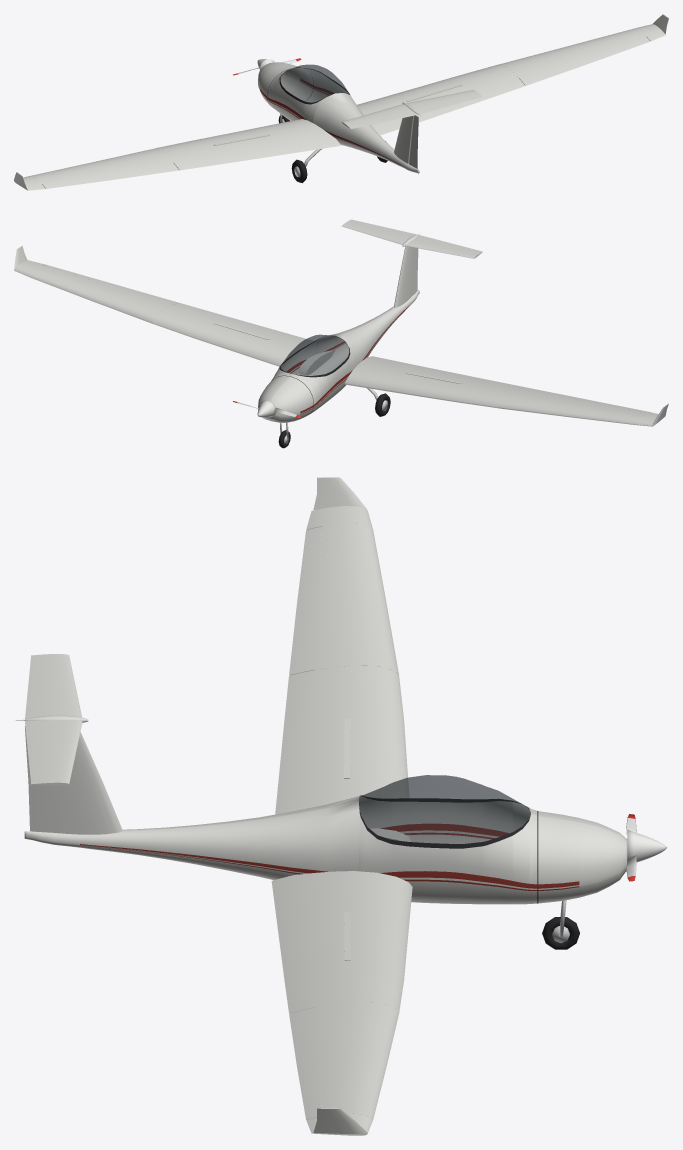
Rendered from super_dimona_lod1.glb.
The picture shows the model from 3 angles, top to bottom: view 1: azimuth 30°, elevation 25°; view 2: azimuth 150°, elevation 25°; view 3: azimuth 270°, elevation 25°; orthographic projection. The views are drawn at different scales.
Visible parts, largest first — view 1: fuselage_LOD1, wing_inner_L_LOD1, wing_inner_R_LOD1, wing_outer_R_LOD1, wing_outer_L_LOD1, aileron_R_LOD1, aileron_L_LOD1, elevator_LOD1, fin_LOD1, stab_L_LOD1, stab_R_LOD1, rudder_LOD1 (+1 smaller); view 2: fuselage_LOD1, wing_inner_R_LOD1, wing_inner_L_LOD1, wing_outer_R_LOD1, wing_outer_L_LOD1, fin_LOD1, stab_L_LOD1, elevator_LOD1, stab_R_LOD1, aileron_R_LOD1, aileron_L_LOD1; view 3: fuselage_LOD1, wing_inner_R_LOD1, wing_inner_L_LOD1, wing_outer_L_LOD1, wing_outer_R_LOD1, fin_LOD1, aileron_L_LOD1, aileron_R_LOD1, elevator_LOD1, stab_R_LOD1, stab_L_LOD1, rudder_LOD1 (+3 smaller).
Part boxes in pixels (x1,y1,x2,y2): fuselage_LOD1: [258, 62, 419, 173]; wing_inner_L_LOD1: [155, 119, 340, 170]; wing_inner_R_LOD1: [357, 64, 525, 135]; wing_outer_R_LOD1: [500, 28, 646, 78]; wing_outer_L_LOD1: [31, 148, 173, 184]; aileron_R_LOD1: [519, 37, 650, 85]; aileron_L_LOD1: [42, 162, 179, 188]; elevator_LOD1: [347, 94, 482, 128]; fin_LOD1: [394, 115, 413, 163]; stab_L_LOD1: [341, 104, 410, 126]; stab_R_LOD1: [407, 90, 479, 108]; rudder_LOD1: [409, 115, 418, 168]; fuselage_LOD1: [258, 290, 419, 422]; wing_inner_R_LOD1: [152, 303, 335, 375]; wing_inner_L_LOD1: [344, 356, 524, 408]; wing_outer_R_LOD1: [29, 266, 172, 323]; wing_outer_L_LOD1: [498, 389, 646, 424]; fin_LOD1: [394, 246, 414, 307]; stab_L_LOD1: [406, 238, 479, 258]; elevator_LOD1: [348, 219, 482, 254]; stab_R_LOD1: [341, 221, 410, 244]; aileron_R_LOD1: [43, 264, 178, 304]; aileron_L_LOD1: [519, 387, 650, 413]; fuselage_LOD1: [24, 775, 627, 904]; wing_inner_R_LOD1: [271, 871, 412, 1013]; wing_inner_L_LOD1: [275, 665, 411, 841]; wing_outer_L_LOD1: [315, 523, 398, 674]; wing_outer_R_LOD1: [315, 1002, 398, 1119]; fin_LOD1: [52, 732, 122, 834]; aileron_L_LOD1: [289, 526, 321, 675]; aileron_R_LOD1: [289, 1007, 321, 1119]; elevator_LOD1: [25, 654, 46, 785]; stab_R_LOD1: [45, 720, 82, 785]; stab_L_LOD1: [45, 654, 81, 717]; rudder_LOD1: [25, 726, 60, 833].
Size of the model in its own units: 16.48 by 2.84 by 7.18.
